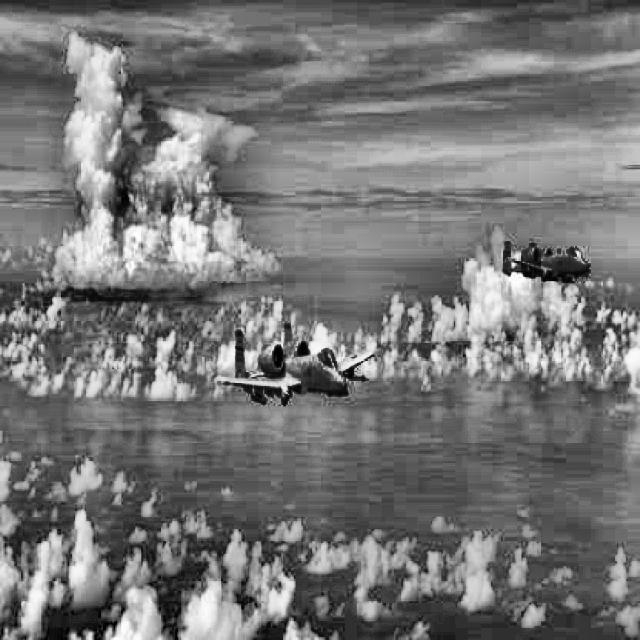A10: (214, 323, 374, 406), (502, 240, 590, 283)
